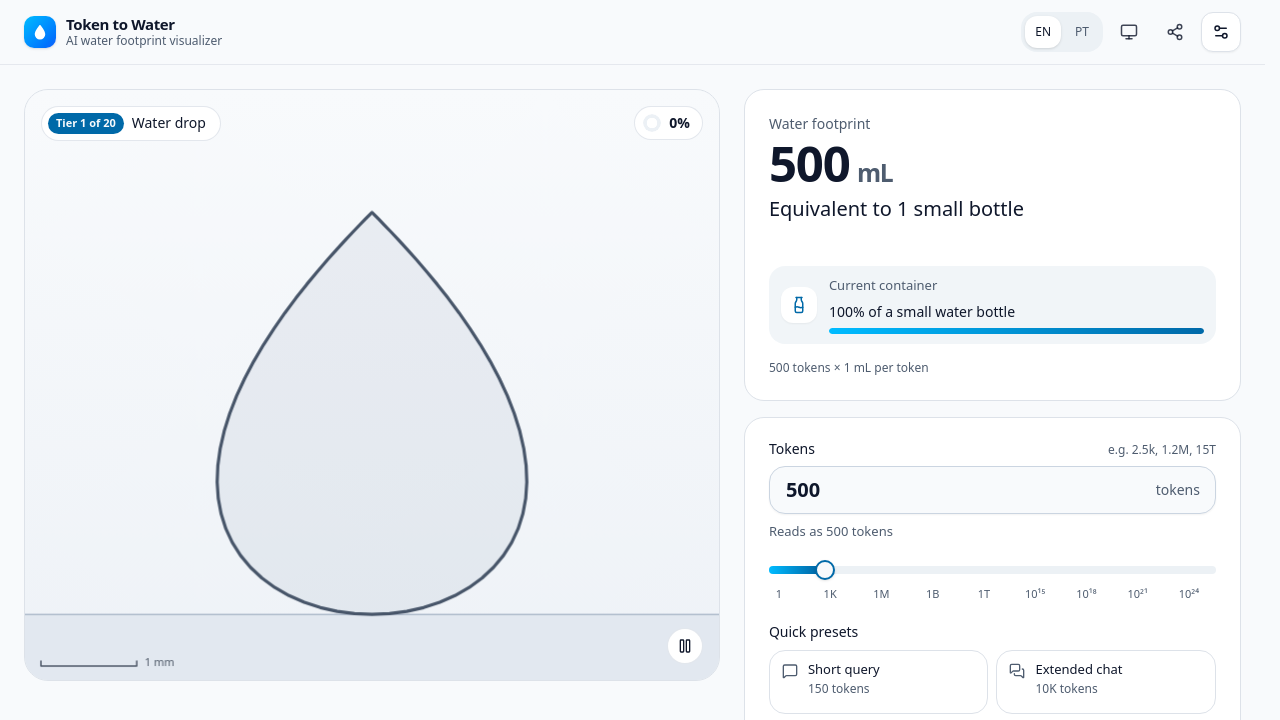
Scenario: App › updates every readout when a preset is chosen
This screenshot has width=1280, height=720.
Click the button "Extended chat 10K tokens" at x=1106, y=682, box [996,650,1216,714]
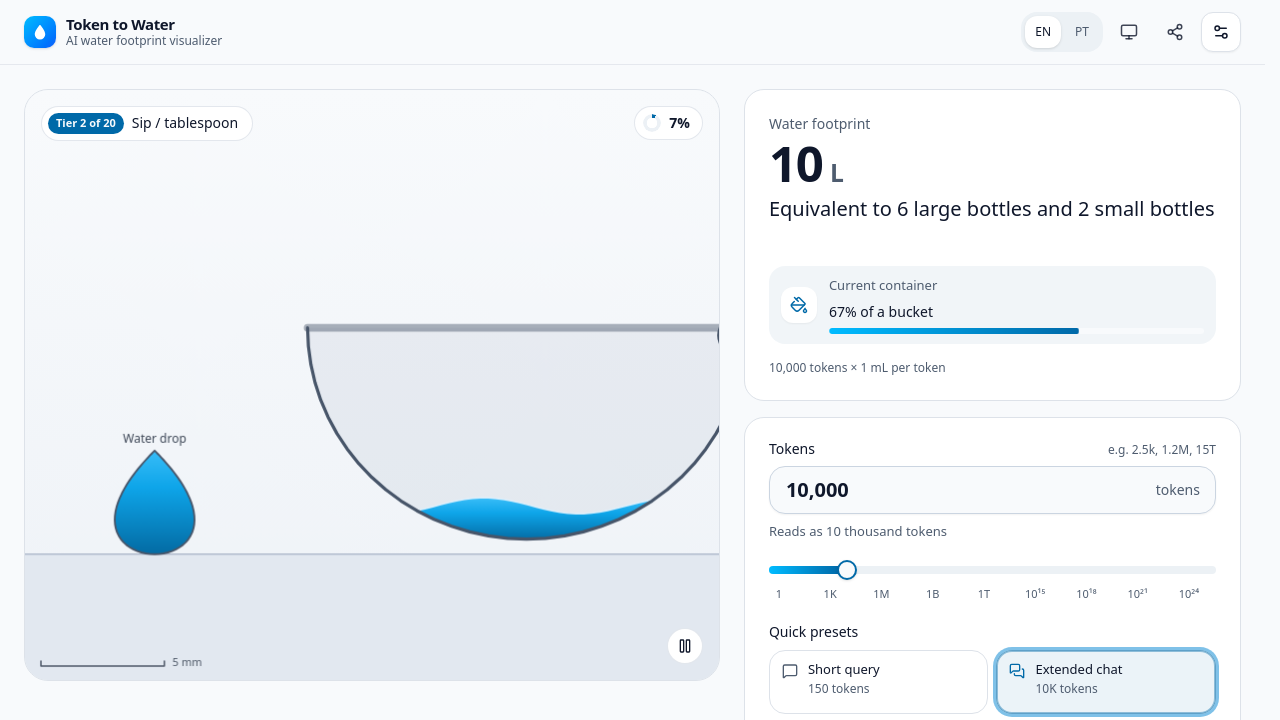
Check: the element with test id "volume" reads "10 L", box [769,129,843,196]
Check: the text with test id "equivalence" reads "Equivalent to 6 large bottles and 2 small bottles", box [769,195,1214,222]
Check: the field labelled "Tokens" holds "10,000", box [769,466,1216,514]
